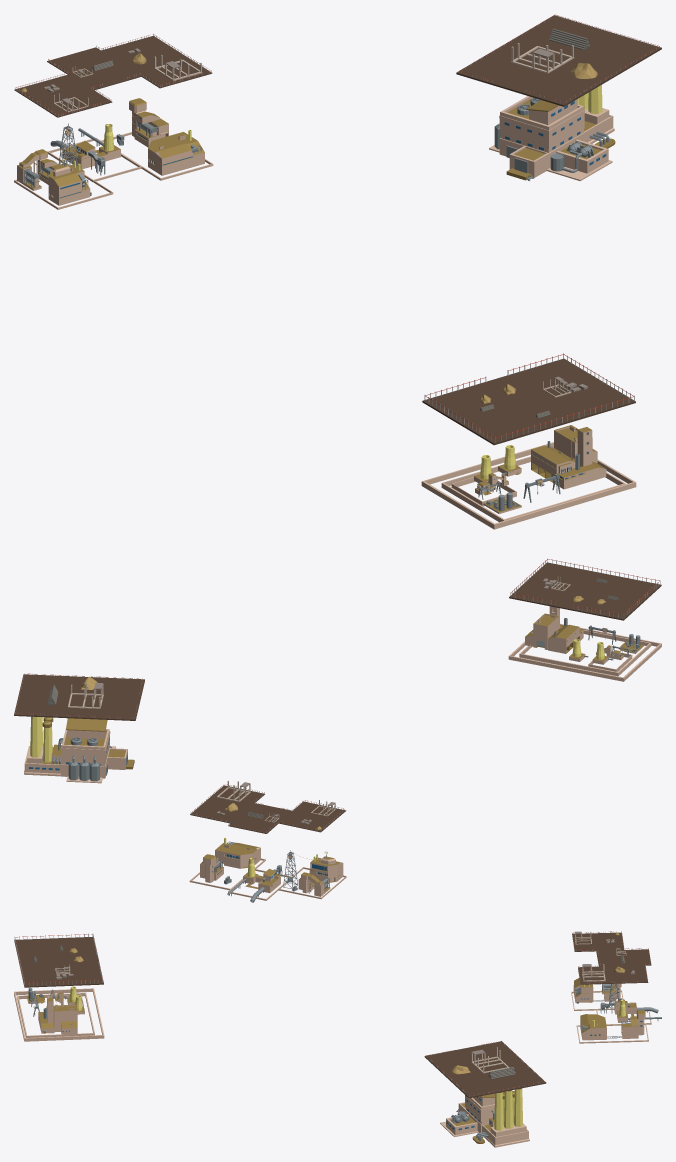
File: Playground_1.fbx
3 renders of one model, top to bottom at view 1: azimuth 30°, elevation 25°; view 2: azimuth 150°, elevation 25°; view 3: azimuth 270°, elevation 25°, orthographic. The views are drawn at different scales.
Parts seen in each view (by area): view 1: Factory_1_plane, Factory_2_plane, factory_2_3, Factory_water_plane, Factory_1_1, Factory_1_3, Factory_Water_2, Factory_Water_3, Factory_Water_1, Factory_2_rubbish, Factory_water_rubbish, factory_1_2 (+1 smaller); view 2: Factory_1_plane, Factory_2_plane, factory_2_3, Factory_water_plane, Factory_1_3, Factory_1_1, Factory_Water_3, Factory_Water_2, Factory_Water_1, Factory_water_rubbish, Factory_2_rubbish, factory_1_2 (+2 smaller); view 3: Factory_1_plane, Factory_2_plane, factory_2_3, Factory_water_plane, Factory_1_3, Factory_Water_2, Factory_1_1, Factory_Water_3, Factory_2_rubbish, Factory_Water_1, Factory_water_rubbish, Factory_1_fence (+1 smaller).
Part boxes in pixels (x1,y1,x2,y2): Factory_1_plane: (422,358,635,445); Factory_2_plane: (456,15,661,106); factory_2_3: (489,85,615,181); Factory_water_plane: (14,36,212,117); Factory_1_1: (441,427,625,522); Factory_1_3: (421,425,636,529); Factory_Water_2: (101,98,213,180); Factory_Water_3: (14,123,113,209); Factory_Water_1: (47,124,141,181); Factory_2_rubbish: (511,28,597,78); Factory_water_rubbish: (21,48,202,112); factory_1_2: (451,455,516,506); Factory_1_plane: (509,562,661,620); Factory_2_plane: (14,674,144,720); factory_2_3: (24,716,134,783); Factory_water_plane: (190,785,346,833); Factory_1_3: (508,613,661,681); Factory_1_1: (519,606,651,676); Factory_Water_3: (278,850,346,899); Factory_Water_2: (189,837,265,890); Factory_Water_1: (227,857,292,902); Factory_water_rubbish: (216,780,335,829); Factory_2_rubbish: (47,676,103,708); factory_1_2: (588,642,632,671); Factory_1_plane: (14,937,103,987); Factory_2_plane: (424,1041,546,1098); factory_2_3: (440,1088,529,1147); Factory_water_plane: (572,932,651,984); Factory_1_3: (14,988,104,1041); Factory_Water_2: (576,1010,648,1043); Factory_1_1: (17,987,94,1037); Factory_Water_3: (571,978,623,1010); Factory_2_rubbish: (451,1047,515,1079); Factory_Water_1: (596,999,661,1024); Factory_water_rubbish: (574,931,634,981); Factory_1_fence: (14,933,102,985).
Size of the model in its own units: 5872 by 1178 by 9653.
